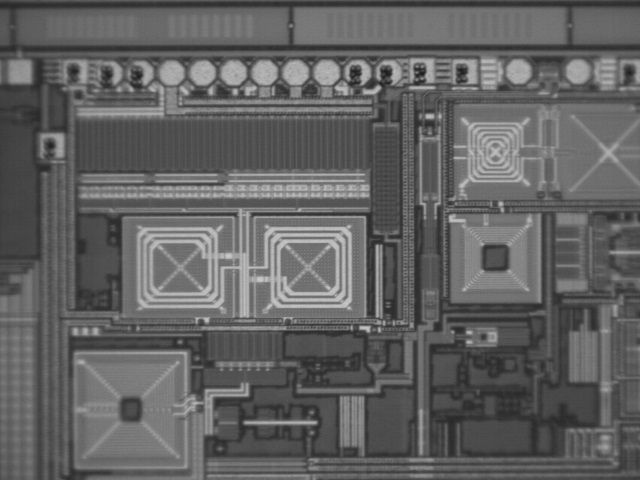over: (124, 57, 154, 88), (342, 57, 372, 88), (373, 57, 403, 88), (406, 55, 436, 86), (449, 55, 479, 86), (614, 55, 639, 88), (60, 59, 87, 88), (95, 58, 122, 87), (36, 131, 63, 160)
